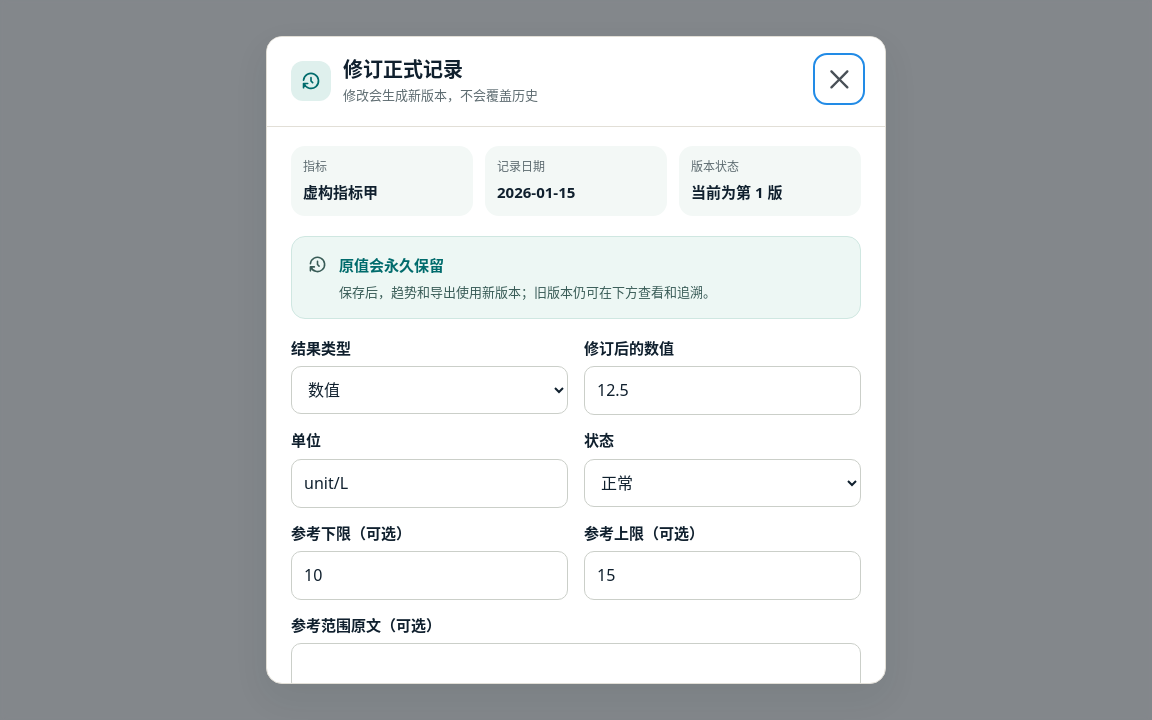
Scenario: HealthFormalMetricRevisionModal › creates a new version without hiding the old value
The image size is (1152, 720).
Expected: the text "修订正式记录" is shown, [343,56,463,83]
Expected: the text "当前为第 1 版" is shown, [691,182,782,202]
Replace the text in the field labelled "修订后的数值" with "13.2" at (722, 391), box [584,366,861,415]
(page scrolled)
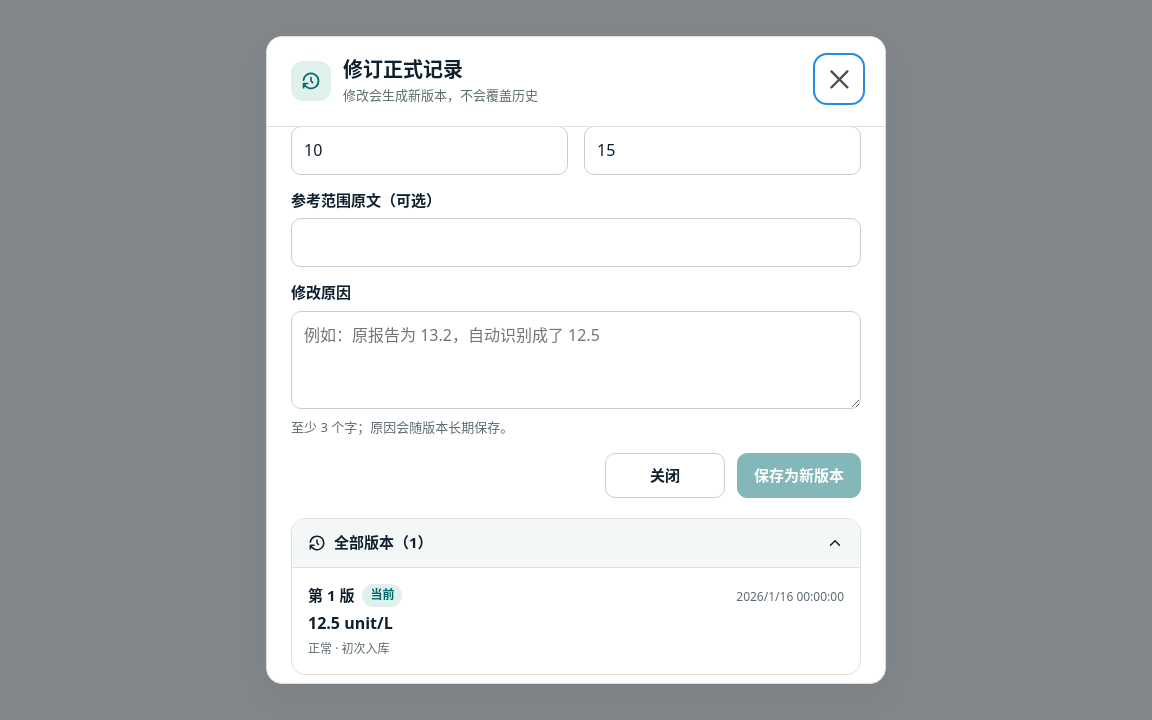
Type "修正自动识别时的小数点错误" into the text box labelled "修改原因" at (576, 360), box [291,311,861,409]
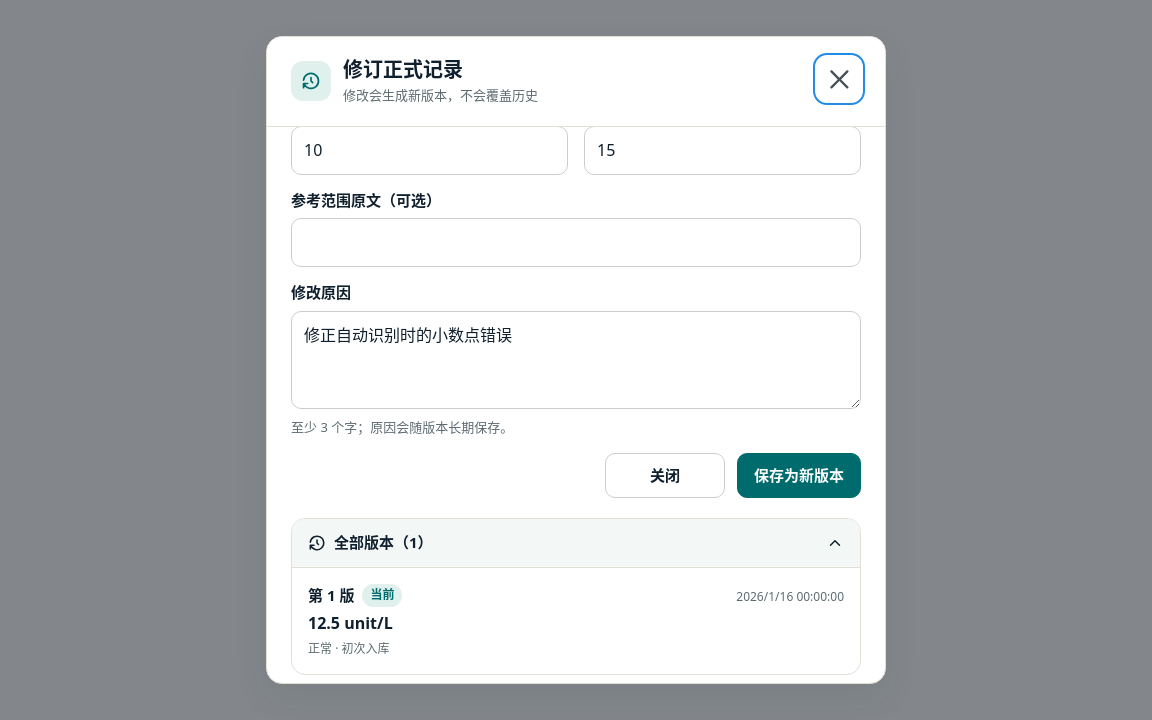
Expected: the button "保存为新版本" is enabled
Click the button "保存为新版本" at (799, 476), box [737,453,861,498]
(page scrolled)
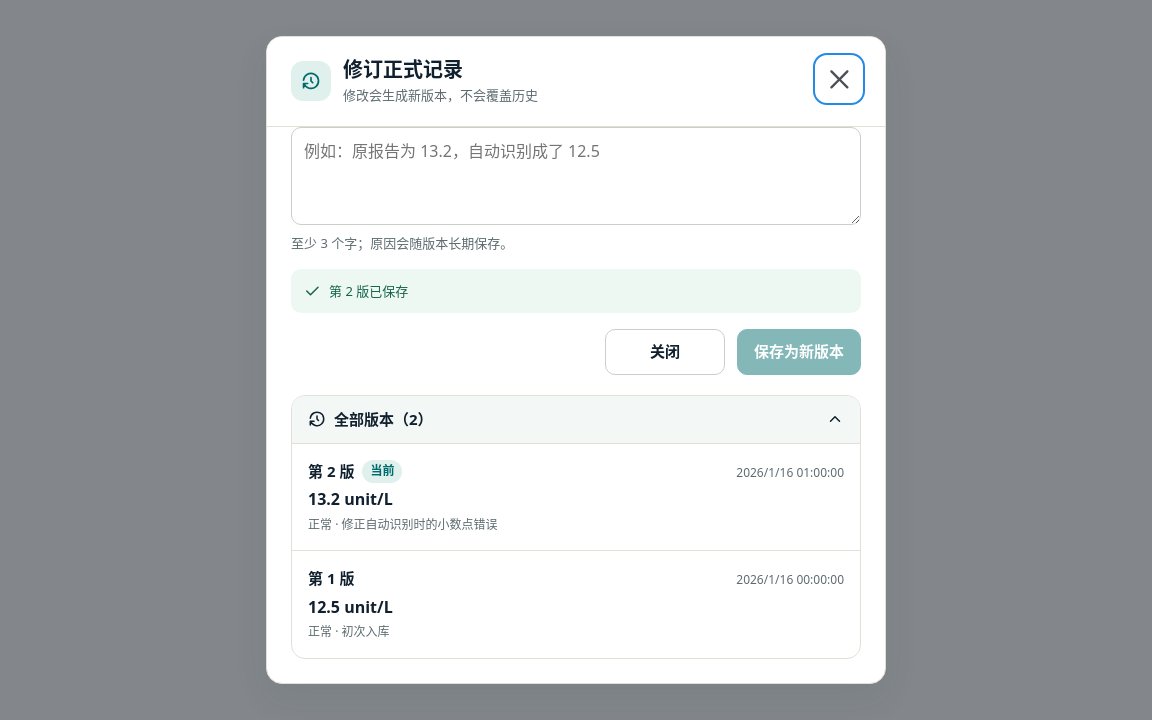
Expected: the text "12.5 unit/L" is shown, [308,596,393,618]
Expected: the text "第 2 版已保存" is shown, [329,281,408,301]
